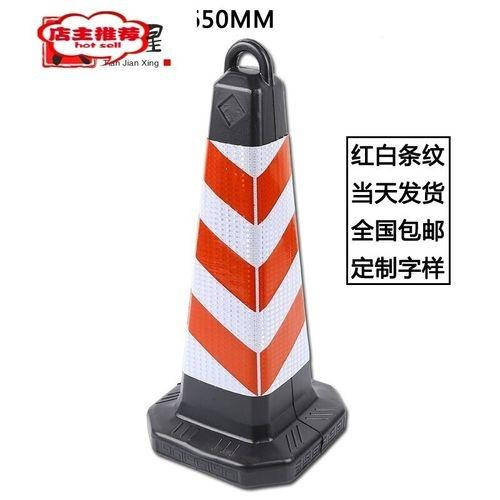cone_barrel: (144, 41, 348, 482)
